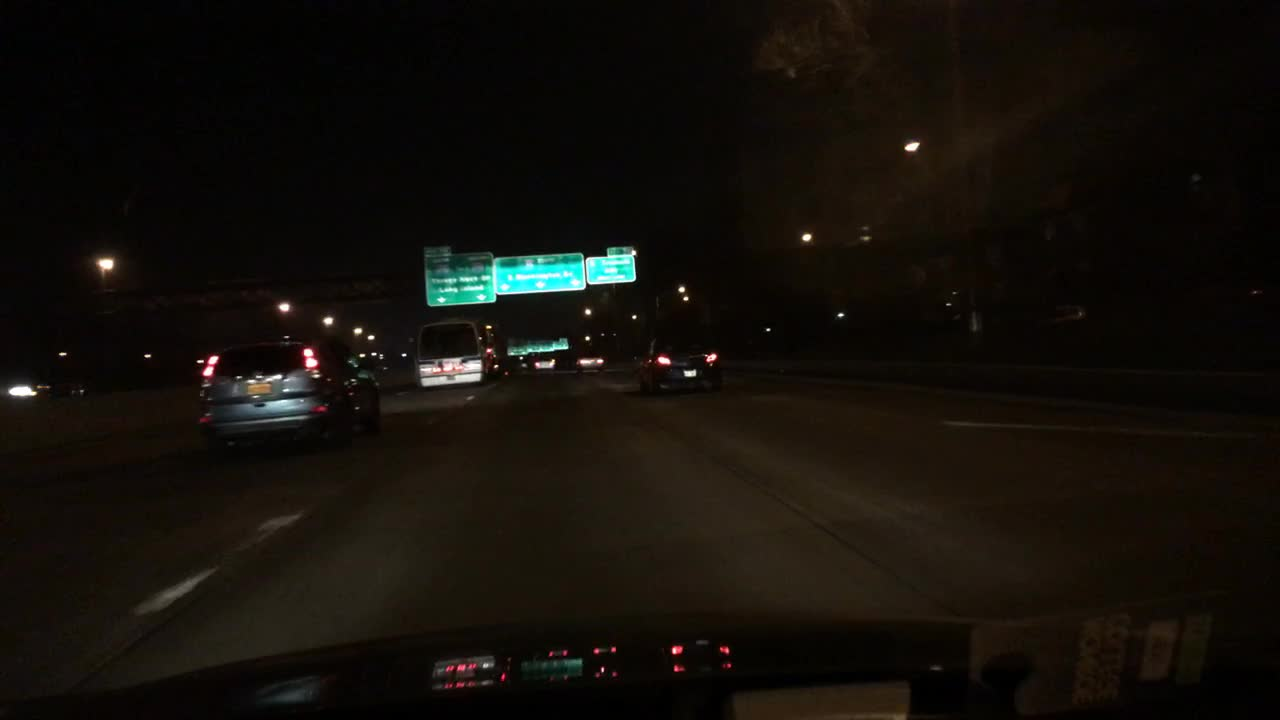bus: (413, 317, 485, 390)
car: (196, 335, 383, 450), (645, 330, 725, 394), (0, 345, 87, 399), (575, 349, 606, 374), (489, 357, 514, 377), (531, 353, 556, 369)
traffic sign: (424, 251, 497, 307), (495, 251, 586, 295), (584, 256, 636, 284), (605, 245, 636, 255), (506, 343, 526, 356), (526, 340, 544, 352), (422, 247, 450, 253), (552, 339, 568, 349), (539, 340, 554, 350)
